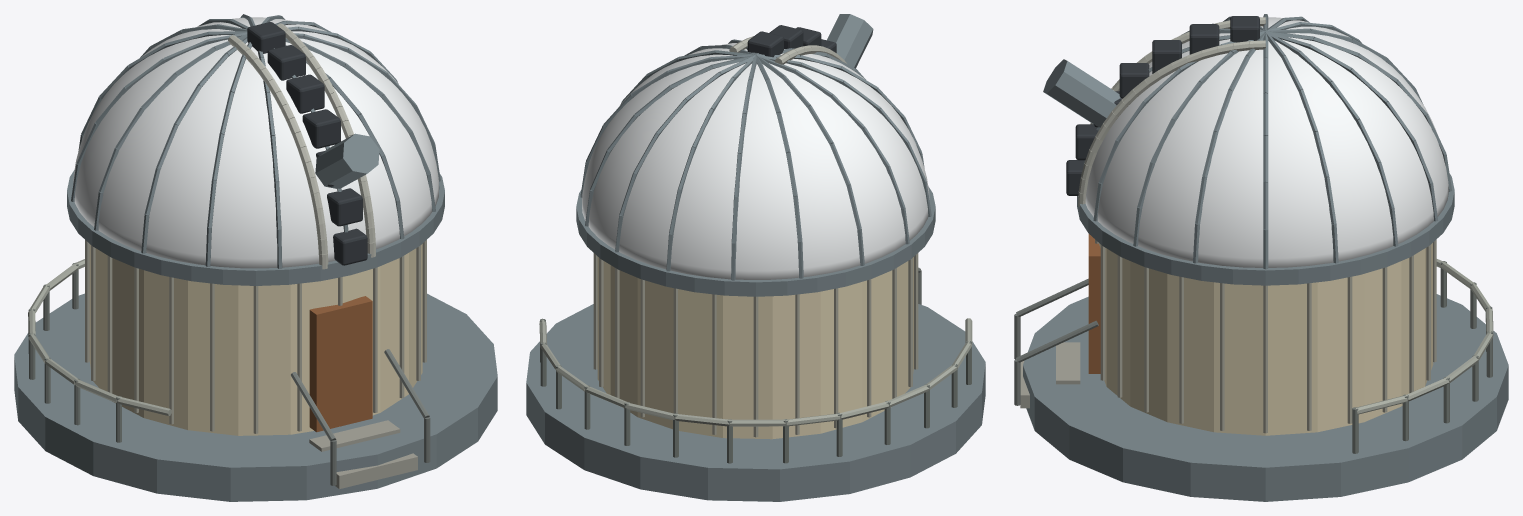
Rendered from observatory.glb.
3 views of the same model, side by side, from view 1: azimuth 30°, elevation 25°; view 2: azimuth 150°, elevation 25°; view 3: azimuth 270°, elevation 25° (orthographic). The views are drawn at different scales.
Visible parts, largest first — view 1: Observatory; view 2: Observatory; view 3: Observatory.
Boxes of the visible parts, <box> form: Observatory: <box>14,14,497,501</box>; Observatory: <box>526,14,985,501</box>; Observatory: <box>1014,14,1508,501</box>.
Size of the model in its own units: 0.9825 by 0.8438 by 1.
